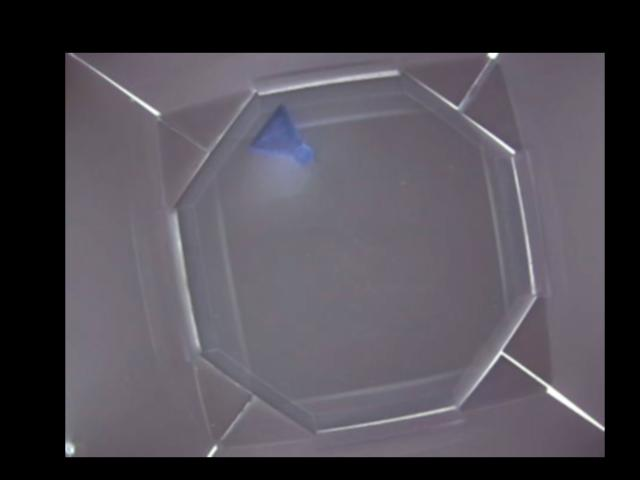Mooli: (249, 104, 313, 164)
